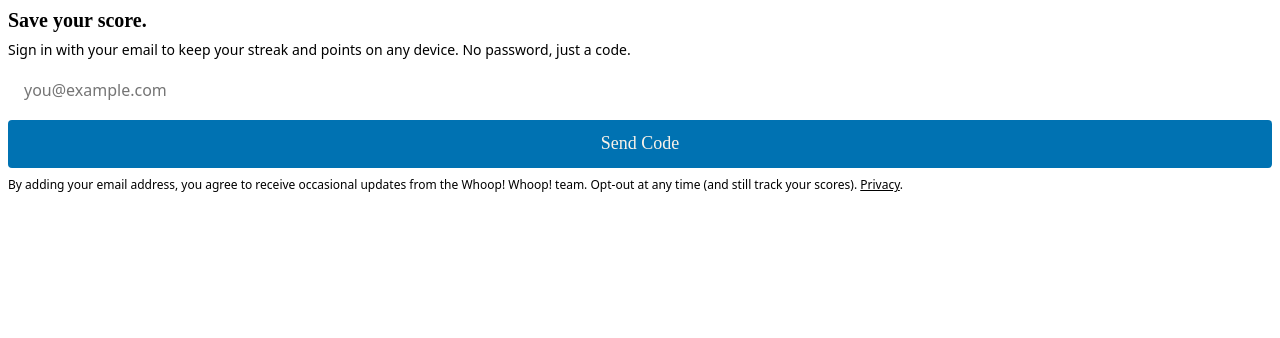
it: optional sign-in › shows the provider's rate-limit guidance when a resend is rejected
The image size is (1280, 338).
In the field named "Email address": point(640, 90) 8,68 -> 1272,112, type "a@b.co"
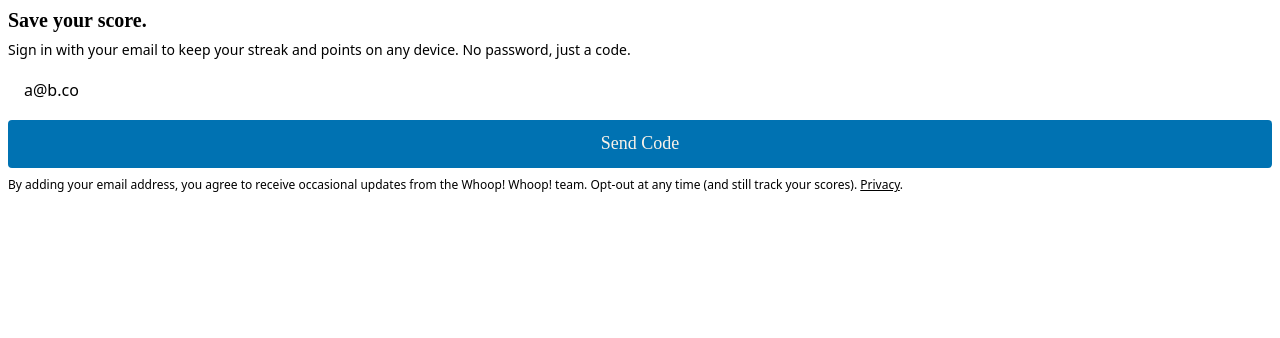
Click the button "Send Code": point(640, 144) 8,120 -> 1272,168
Wait 60000 ms
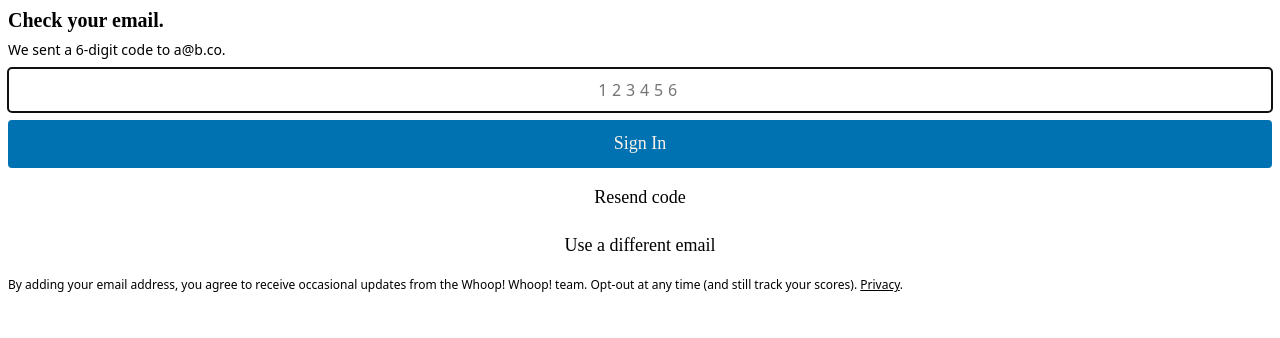
Click the button "Resend code": point(640, 198) 584,176 -> 696,220
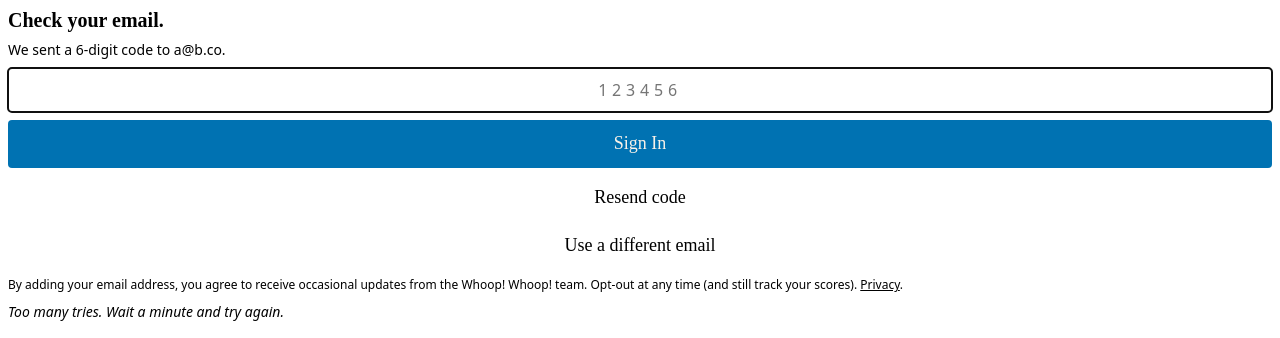
Expected: the message reads "Too many tries. Wait a minute and try again.", 8,302 -> 284,321
